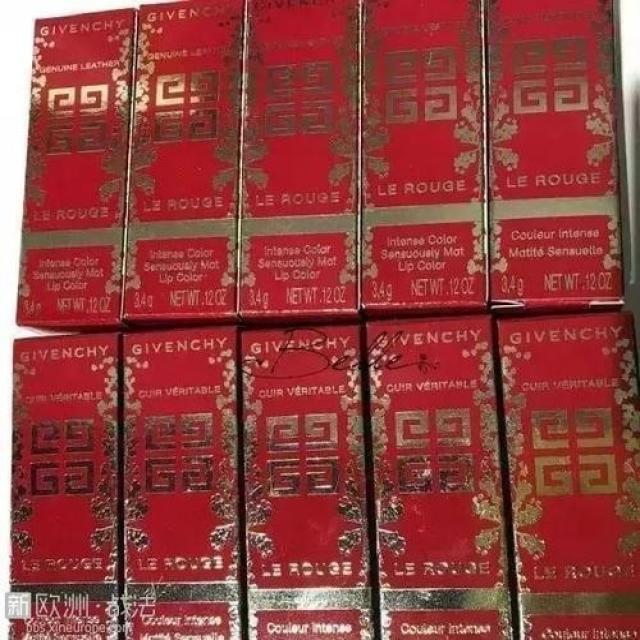box: (360, 308, 516, 639), (492, 311, 639, 639), (238, 319, 378, 639), (481, 3, 625, 309), (121, 1, 244, 333), (360, 1, 489, 316), (235, 2, 361, 322), (19, 7, 140, 336), (119, 323, 244, 639), (8, 333, 122, 639)
